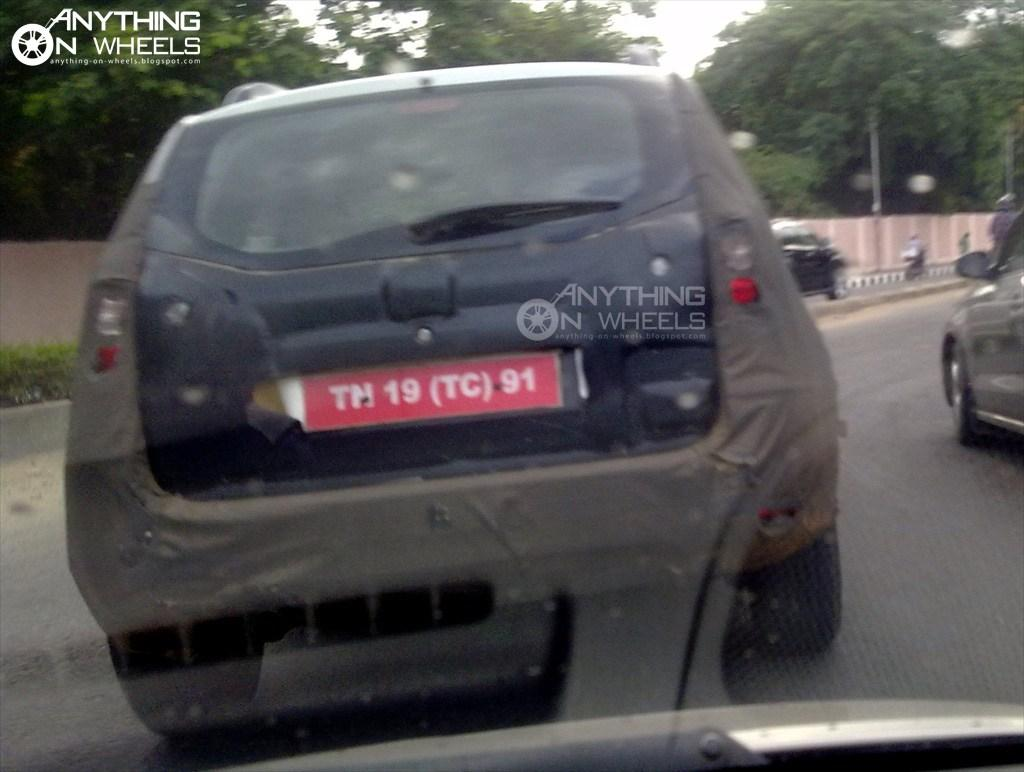License-Plate: (296, 353, 563, 429)
